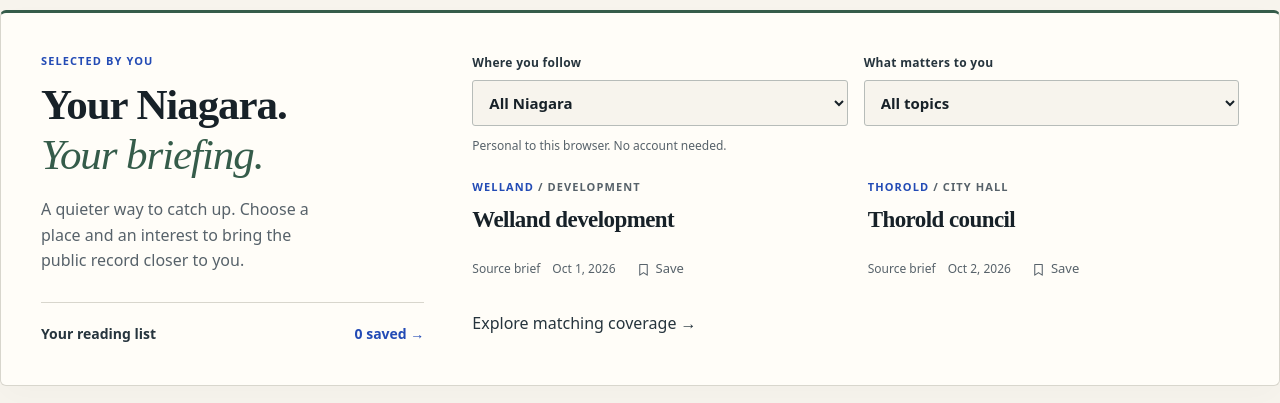
it: filters by city and interest, persists choices, and offers recovery from no matches
This screenshot has width=1280, height=403.
Select "Welland" in the dropdown labelled "Where you follow" at (660,103), box 472,80 -> 848,126
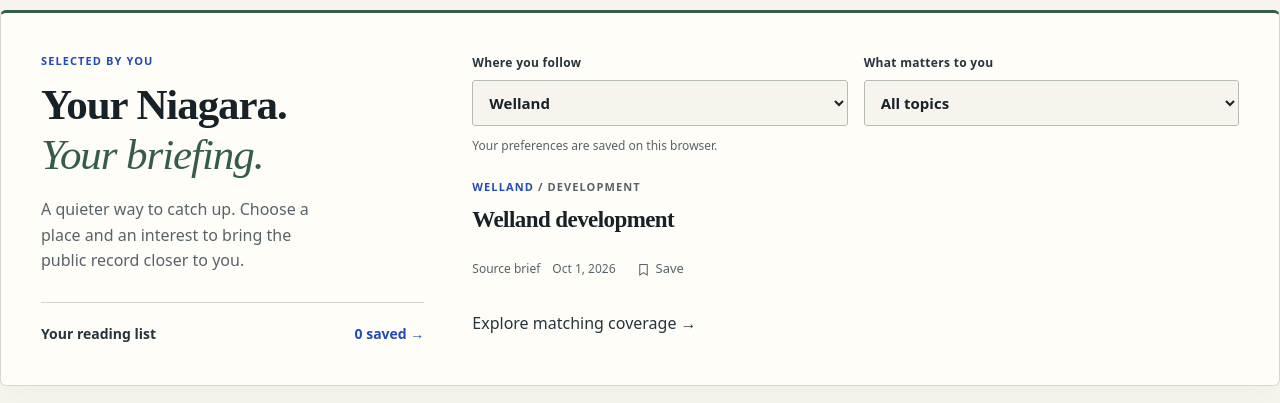
Expected: the link "Welland development" is shown, 472,207 -> 674,232
Result: the link "Thorold council" is gone
Select "City Hall" in the dropdown labelled "What matters to you" at (1051,103), box 864,80 -> 1239,126
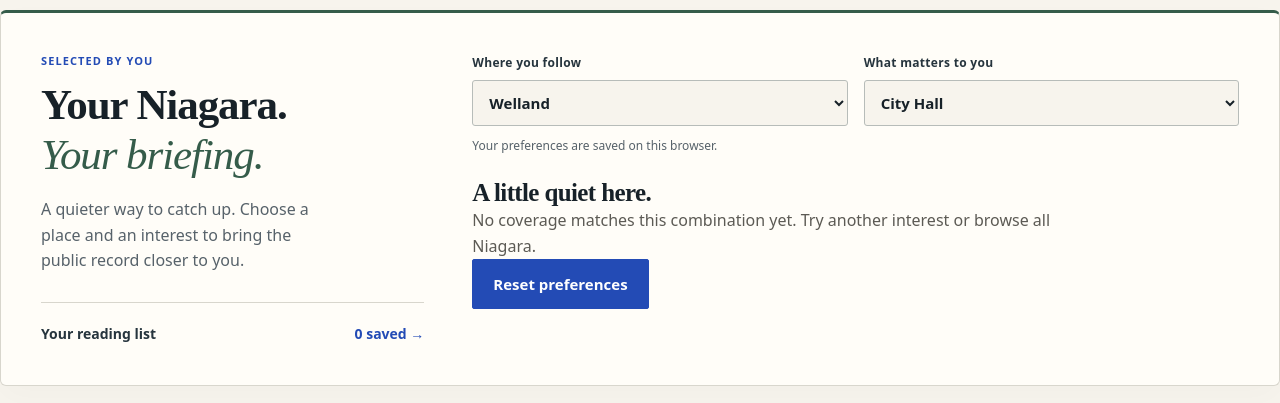
Result: the heading "A little quiet here." is shown at 472,179 -> 651,206
Click the button "Reset preferences" at (560,284), box 472,259 -> 649,309
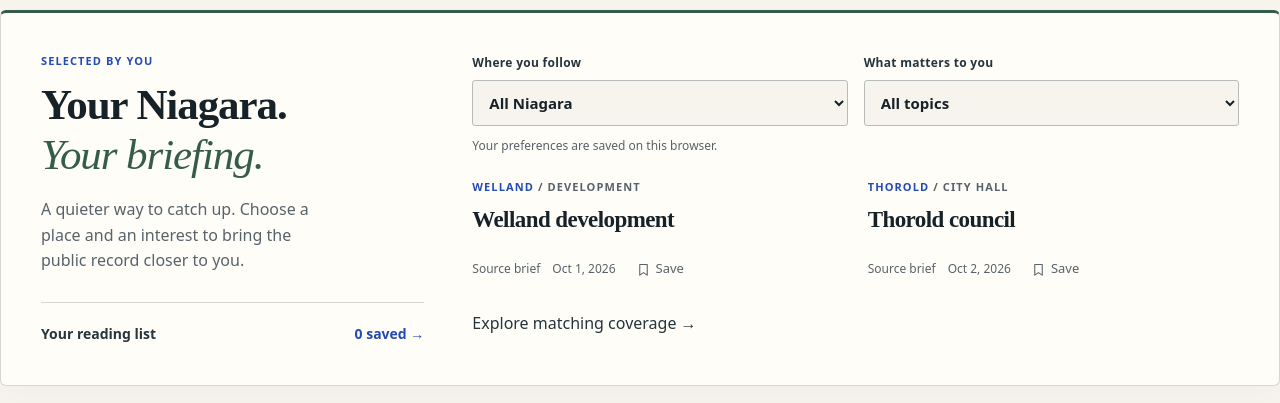
Result: the link "Thorold council" is shown at 868,207 -> 1015,232
